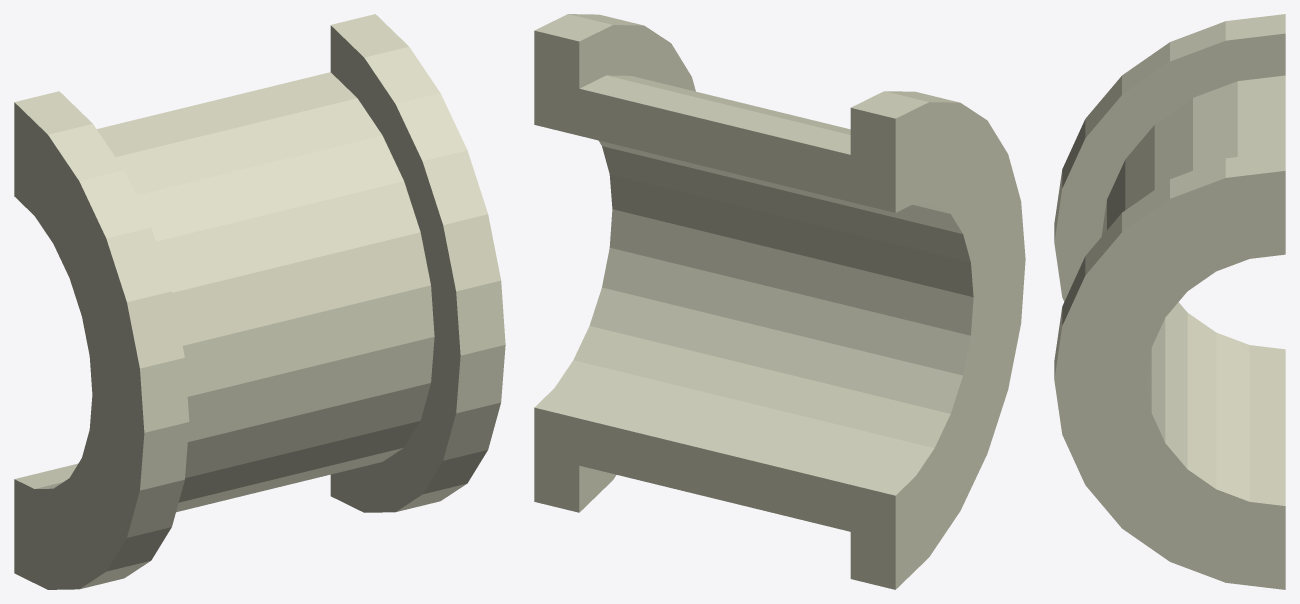
File: section_308.obj
3 renders of one model, left to right at view 1: azimuth 30°, elevation 25°; view 2: azimuth 150°, elevation 25°; view 3: azimuth 270°, elevation 25°, orthographic. The views are drawn at different scales.
Bounding box in the file's own units: 8.02 × 10 × 5.
